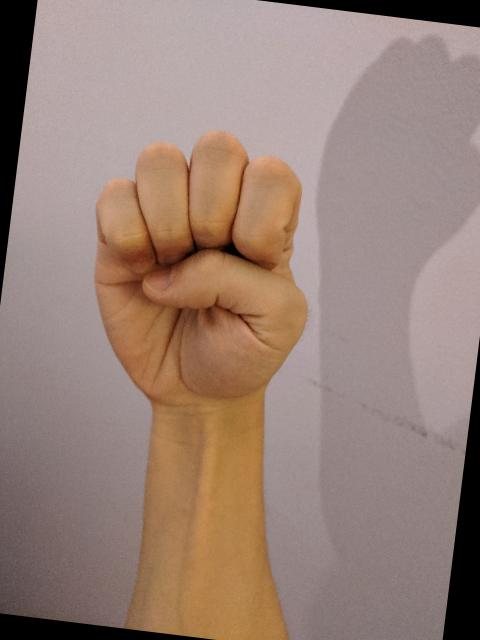E: (66, 112, 332, 423)
